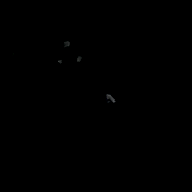v: (54, 38, 82, 65)
